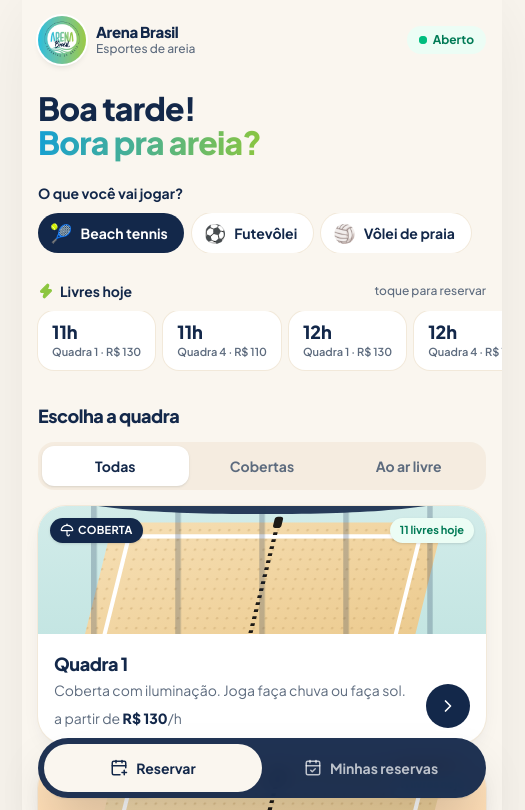
Test: reserva › no 409 avisa, volta para os horários e tira o horário que foi tomado
Click the heading "Quadra 1" at [91, 664], box [54,652,128,675]
(page scrolled)
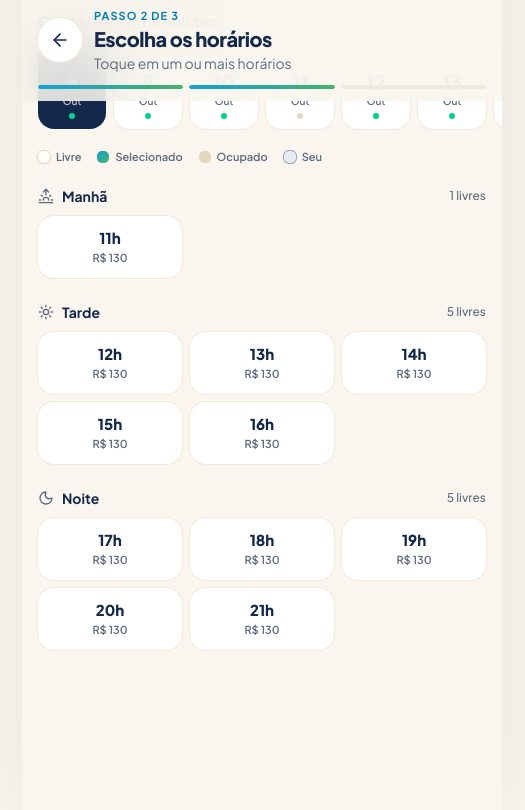
expect the heading "Escolha os horários" is shown: met, box [94,26,272,50]
Click the button "20h R$ 130" at [110, 618], box [38,588,182,650]
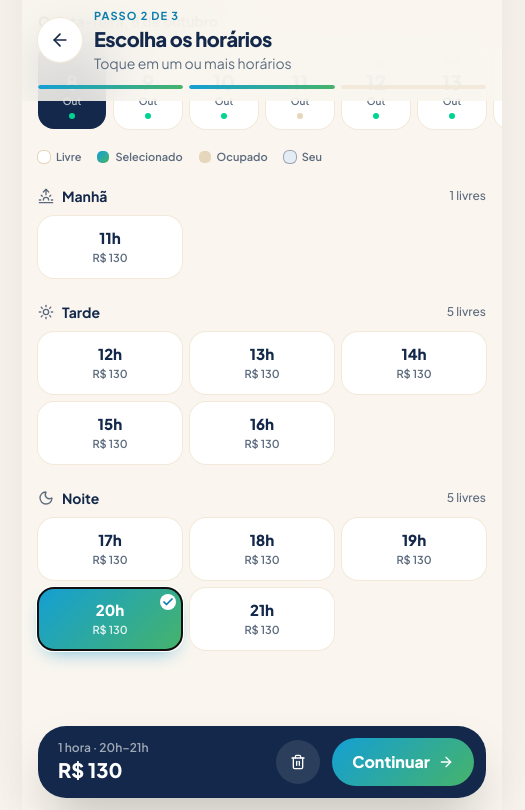
Click the button "Continuar" at [403, 762], box [332,738,474,786]
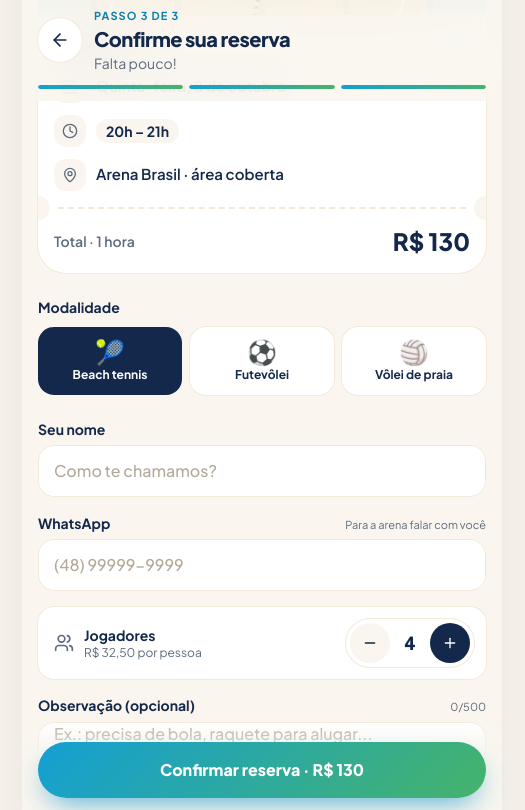
Type "Ana Souza" into the field with placeholder "Como te chamamos?" at [262, 470], box [38,444,486,496]
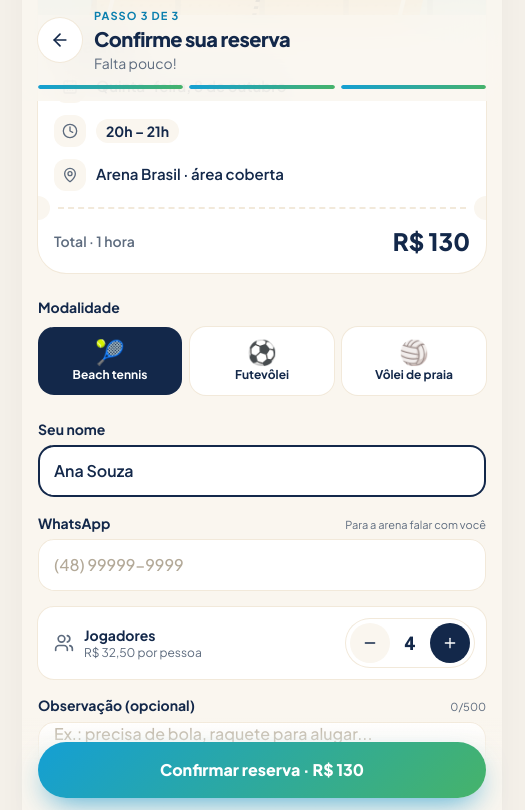
Type "48999999999" into the field with placeholder "(48) 99999-9999" at [262, 565], box [38,539,486,591]
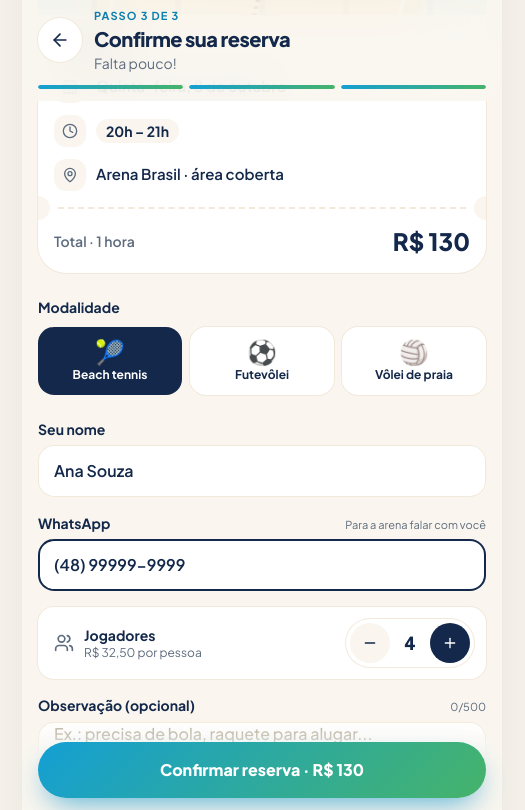
Click the button "Confirmar reserva · R$ 130" at [262, 770], box [38,742,486,798]
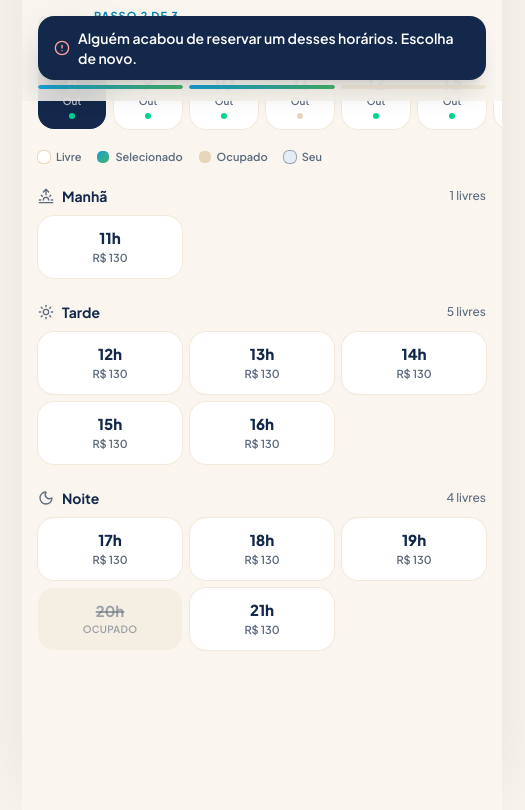
expect the button "Continuar" is not shown: met
expect the text "Alguém acabou de reservar um desses horários. Escolha de novo." is shown: met, box [38,16,486,80]
expect the heading "Escolha os horários" is shown: met, box [94,26,272,50]
